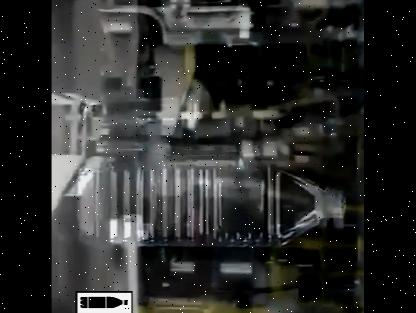Plastic Bottle: (78, 166, 346, 247)
